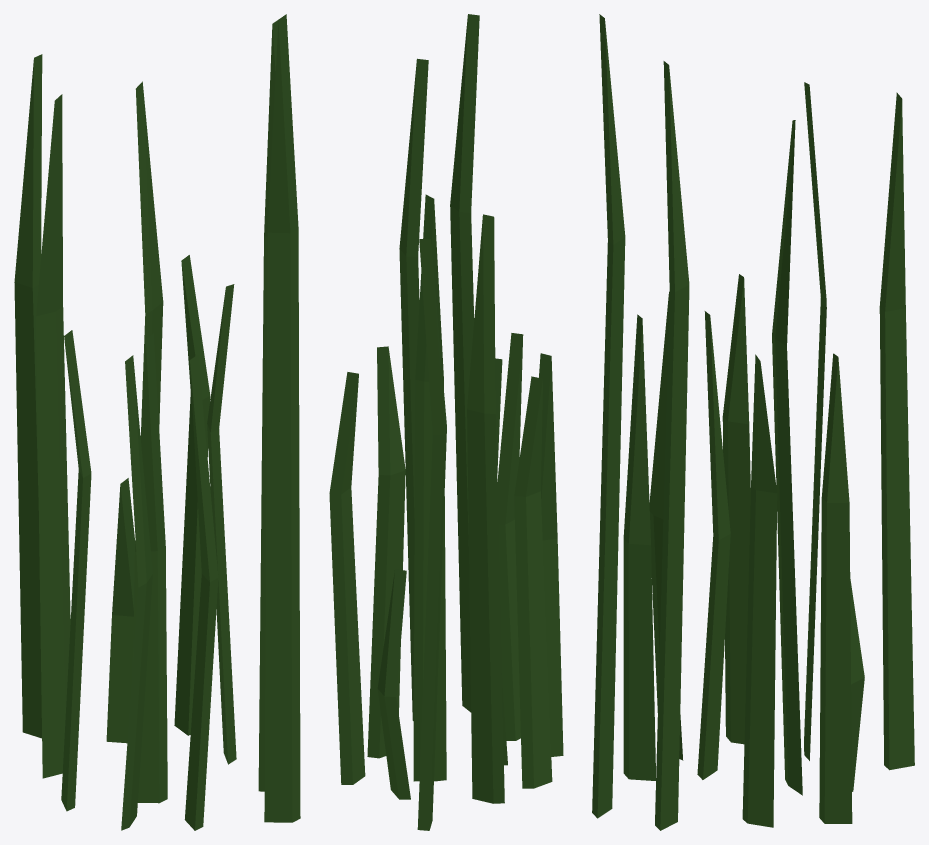
Rendered from prop_Grass_2.glb.
3 renders of one model, left to right at view 1: azimuth 30°, elevation 25°; view 2: azimuth 150°, elevation 25°; view 3: azimuth 270°, elevation 25°, orthographic. The views are drawn at different scales.
Visible parts, largest first — view 1: Grass_2; view 2: Grass_2; view 3: Grass_2.
Boxes of the visible parts, x1,y1,x2,y2 form: Grass_2: [14, 14, 300, 830]; Grass_2: [329, 14, 563, 830]; Grass_2: [592, 14, 914, 830].
Size of the model in its own units: 0.3162 by 1.2 by 0.4417.
